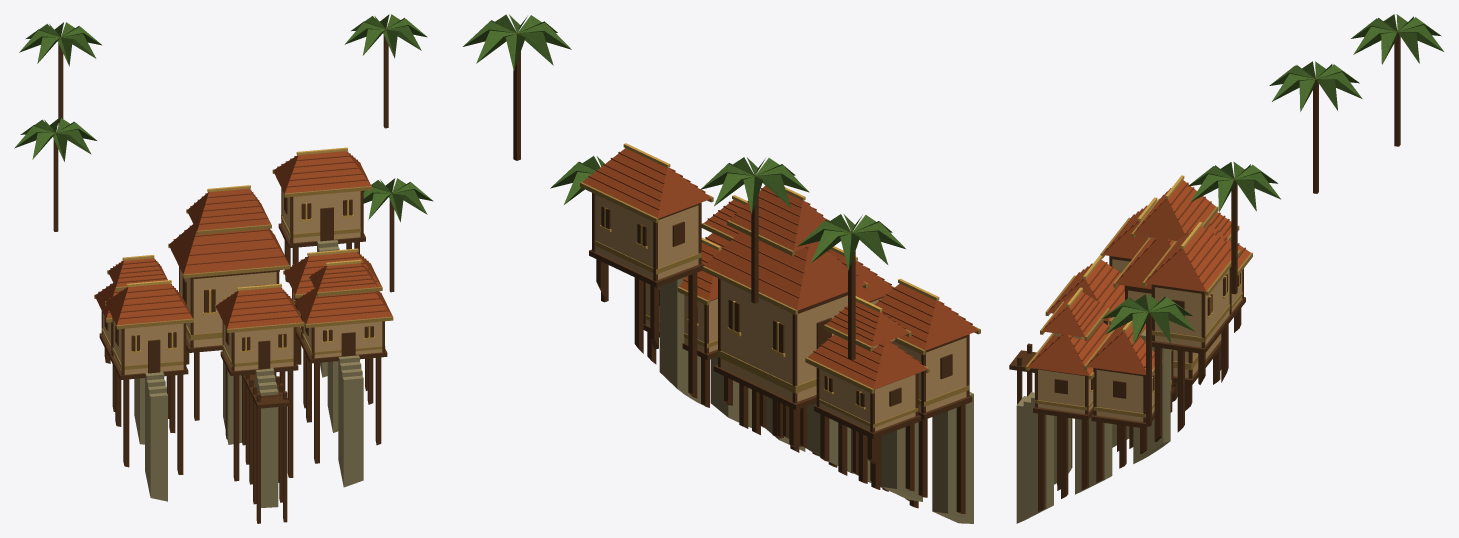
Rendered from surabaya.obj.
3 renders of one model, left to right at view 1: azimuth 30°, elevation 25°; view 2: azimuth 150°, elevation 25°; view 3: azimuth 270°, elevation 25°, orthographic. The views are drawn at different scales.
Parts seen in each view (by area): view 1: surabaya; view 2: surabaya; view 3: surabaya.
Boxes of the visible parts, x1=… form: surabaya: x1=14, y1=14, x2=433, y2=523; surabaya: x1=463, y1=14, x2=980, y2=523; surabaya: x1=1009, y1=14, x2=1443, y2=523.
Size of the model in its own units: 16.25 by 16.39 by 14.46.
